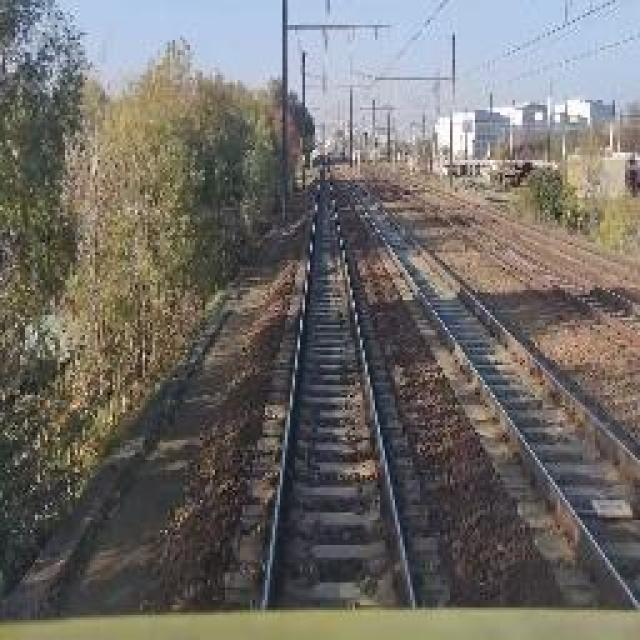rail: (213, 162, 462, 618)
